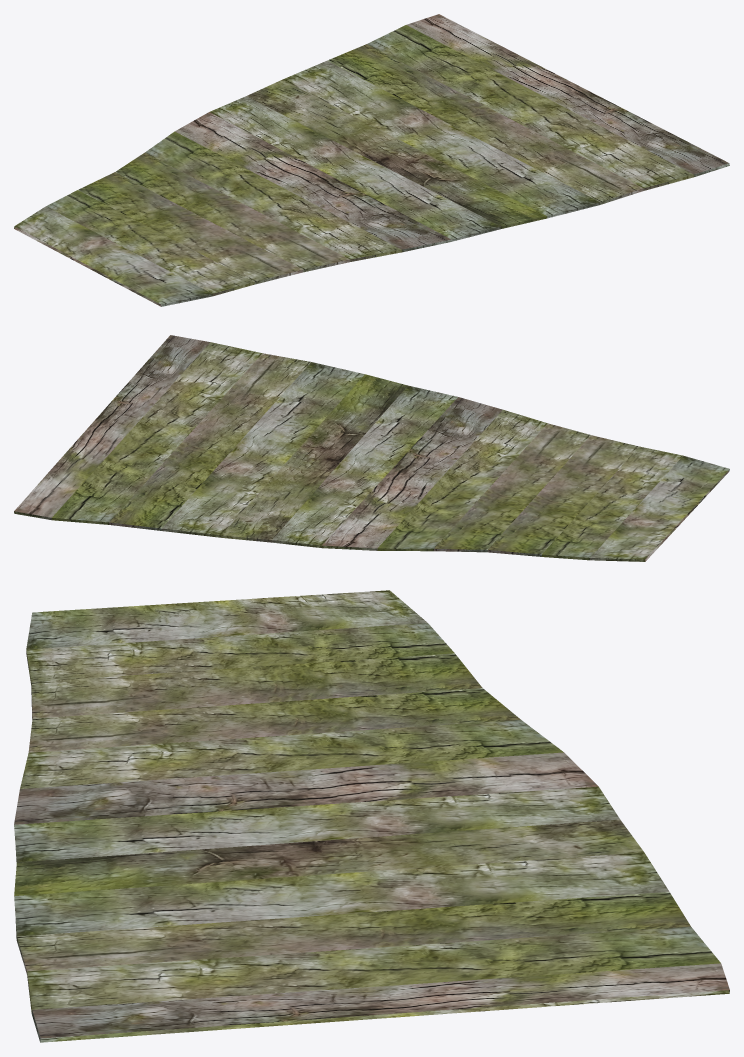
File: rampe_001_19_colider.fbx
3 views of the same model, one above another, from view 1: azimuth 30°, elevation 25°; view 2: azimuth 150°, elevation 25°; view 3: azimuth 270°, elevation 25° (orthographic). The views are drawn at different scales.
Parts seen in each view (by area): view 1: Ramp_001__19__052; view 2: Ramp_001__19__052; view 3: Ramp_001__19__052.
Part boxes in pixels (<box>): Ramp_001__19__052: <box>14,14,729,306</box>; Ramp_001__19__052: <box>14,335,729,561</box>; Ramp_001__19__052: <box>14,590,729,1042</box>.
Size of the model in its own units: 741 by 3 by 500.
